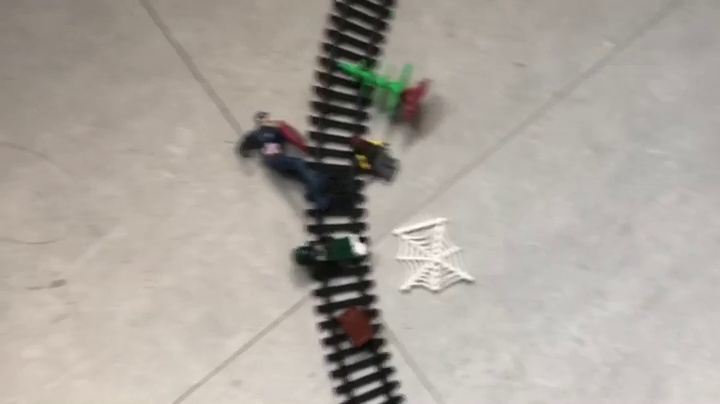box: (336, 304, 374, 348)
people: (235, 110, 353, 215), (293, 232, 370, 278), (349, 135, 401, 182)
tree: (338, 58, 443, 136)
web: (390, 216, 475, 296)
